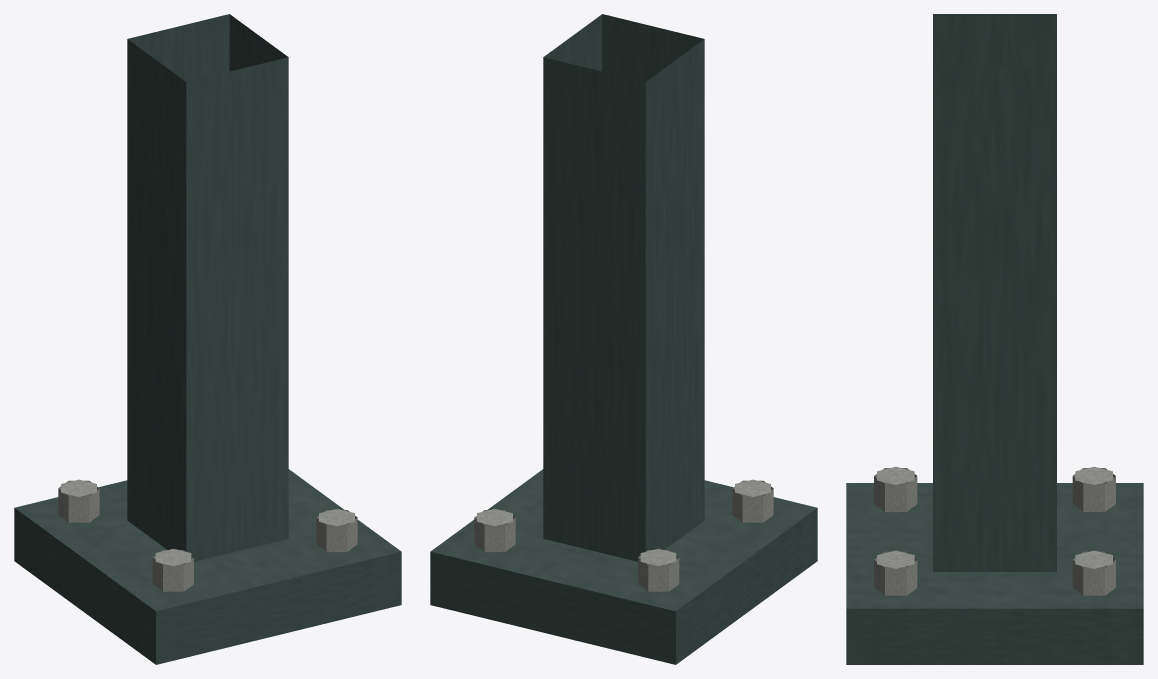
The model's file is cell_8.obj.
3 views of the same model, side by side, from view 1: azimuth 30°, elevation 25°; view 2: azimuth 150°, elevation 25°; view 3: azimuth 270°, elevation 25° (orthographic). The views are drawn at different scales.
Size of the model in its own units: 0.48 by 1 by 0.48.
